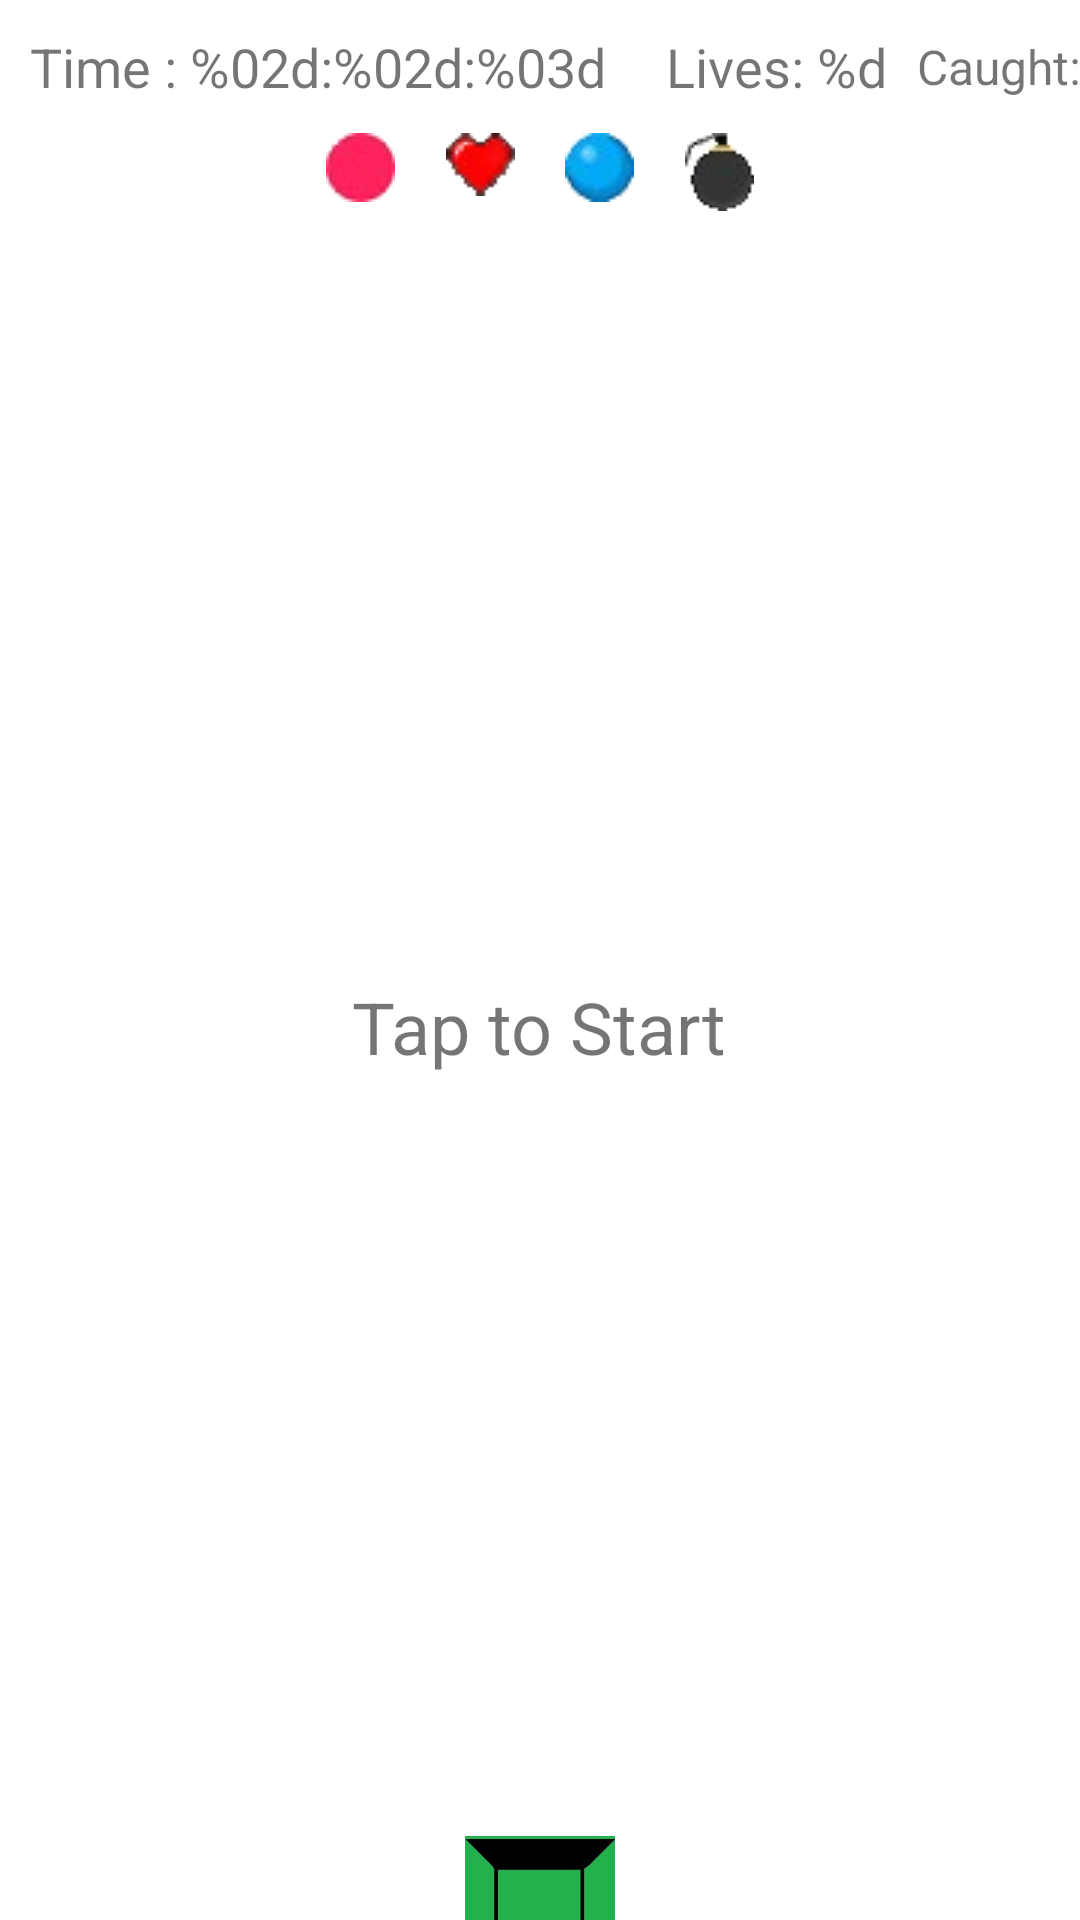

Named icons in this screenshot (1080px×1920px) and their centers, point (x, y):
bomb: point (719, 172)
heart: point (480, 164)
